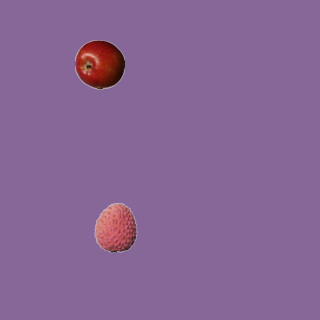Apple Braeburn: (74, 39, 124, 89)
Lychee: (90, 202, 140, 252)
